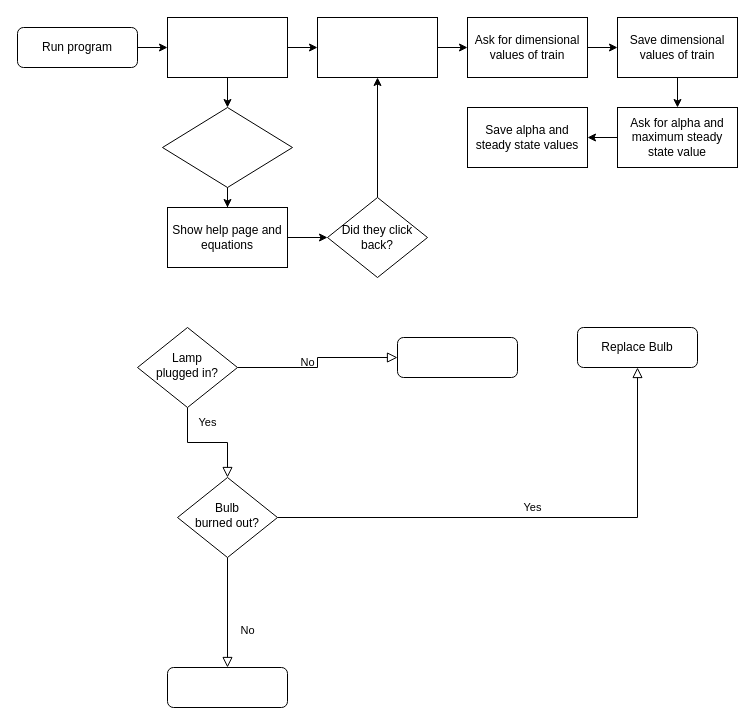
The diagram is 755 pixels wide and 725 high, and some of its shapes have lost their labels. The shapes that lost their labels are listed below. From the top down, each one's centre as x and y in pixels, then its label:
At point (227, 47): "Open tkinter GUI".
At point (377, 47): "Show image of train".
At point (227, 147): "Did they click help?".
At point (457, 357): "Plug in lamp".
At point (227, 687): "Repair Lamp".
